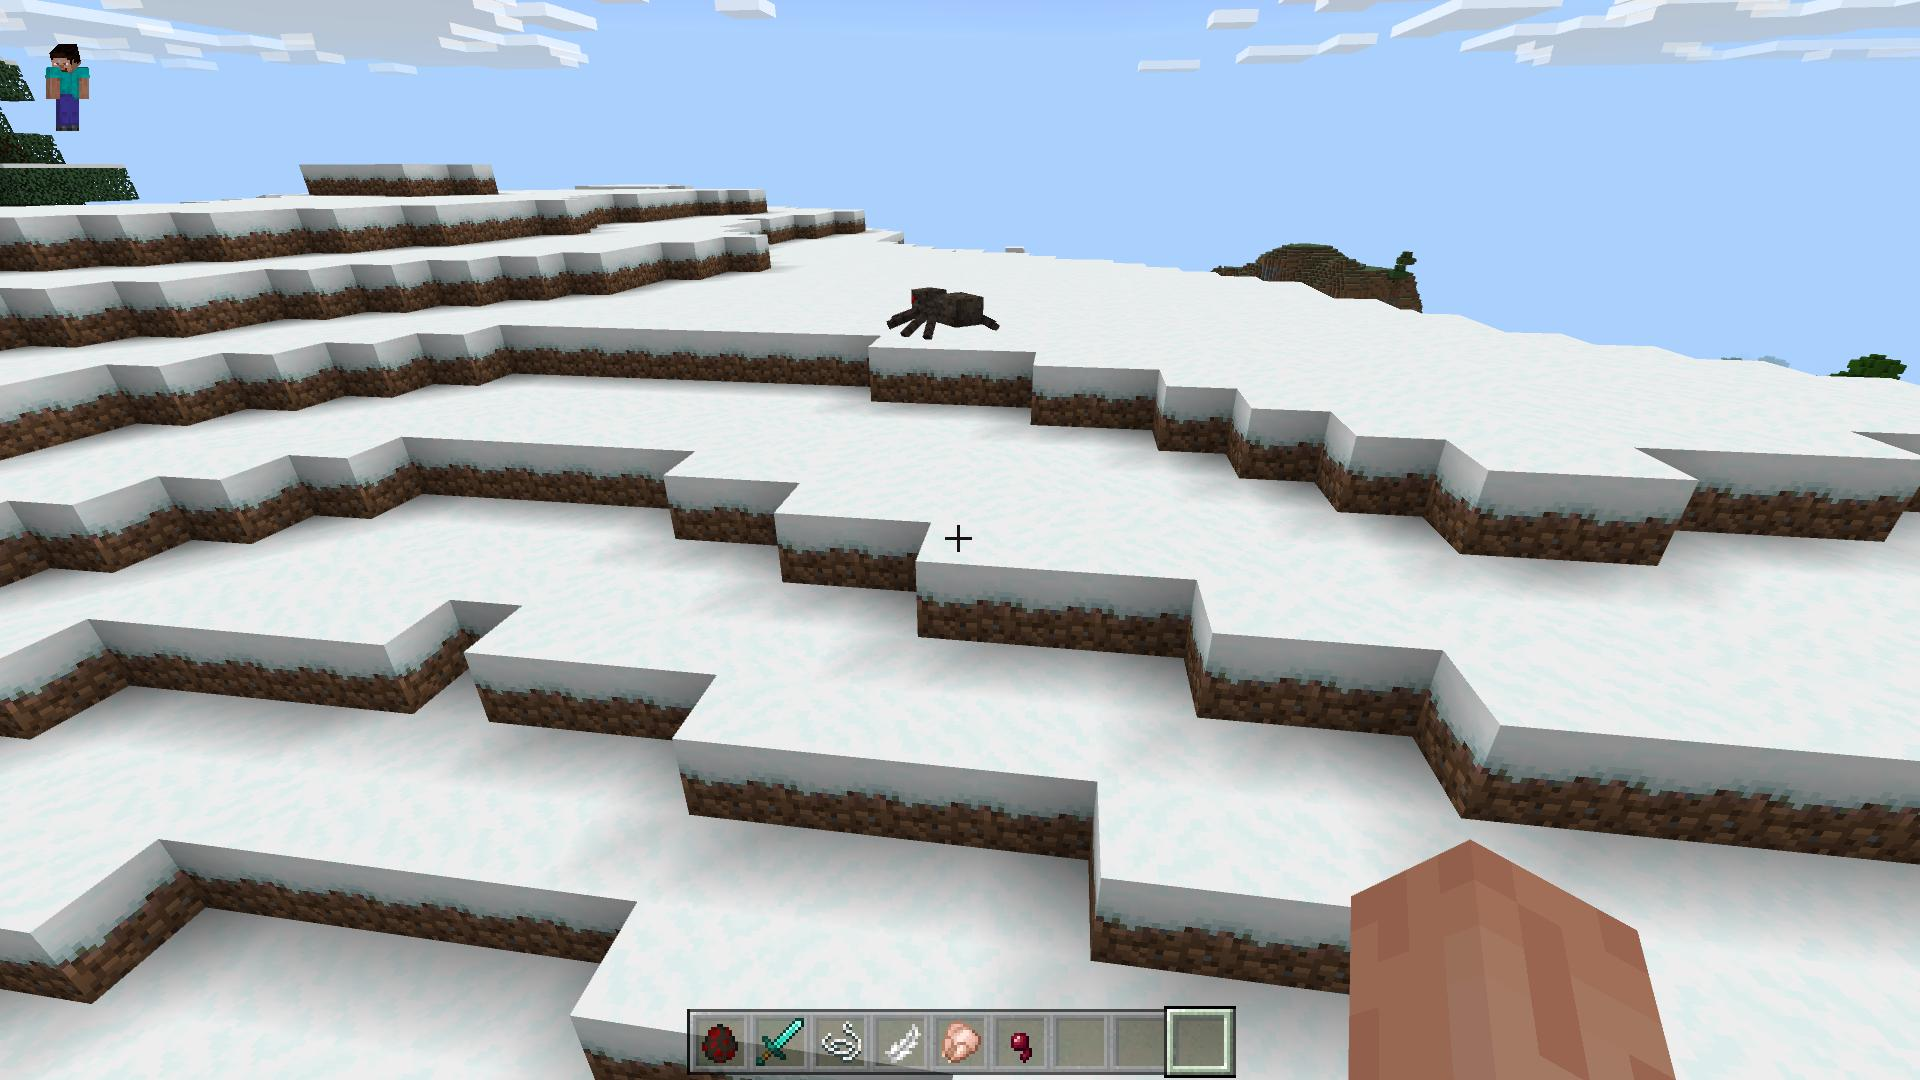spider: (887, 287, 1001, 348)
